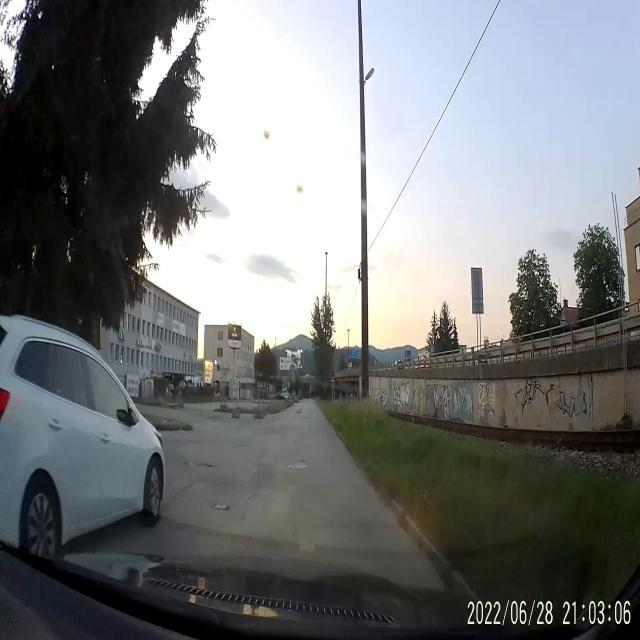Manhole: (286, 462, 310, 474), (213, 500, 233, 512)
Pothole: (177, 458, 213, 472), (291, 408, 307, 422)
